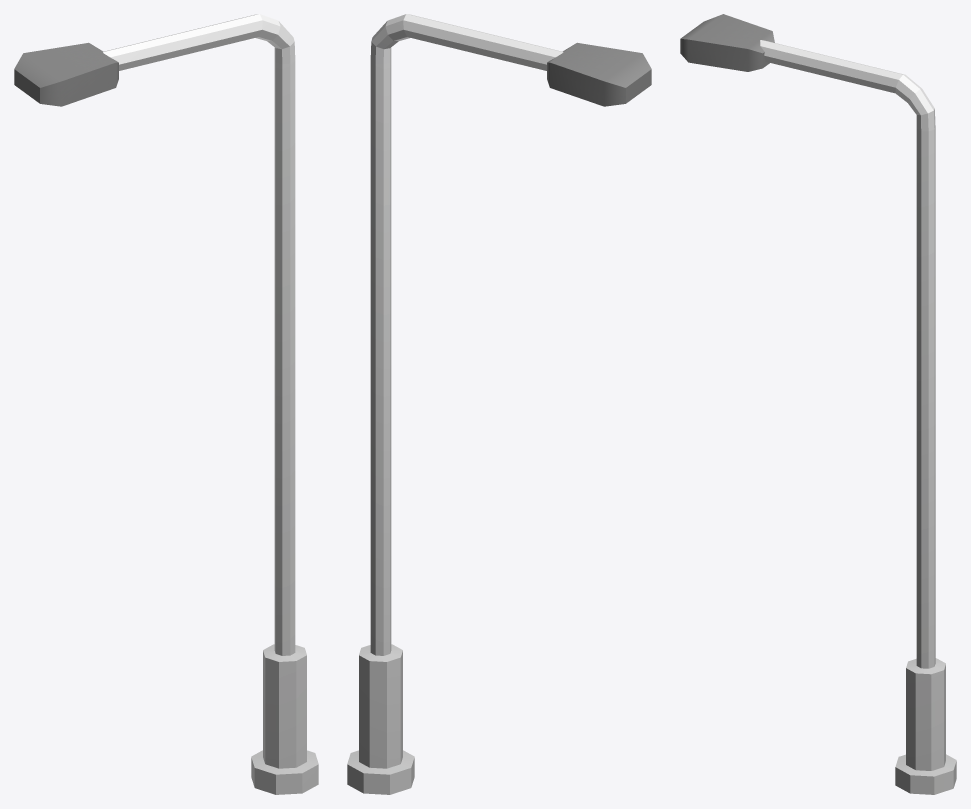
Rendered from lamp.fbx.
3 views of the same model, side by side, from view 1: azimuth 30°, elevation 25°; view 2: azimuth 150°, elevation 25°; view 3: azimuth 330°, elevation 25° (orthographic). The views are drawn at different scales.
Visible parts, largest first — view 1: lamp; view 2: lamp; view 3: lamp.
Boxes of the visible parts, <box> form: lamp: <box>14,14,318,794</box>; lamp: <box>347,14,651,794</box>; lamp: <box>680,14,956,794</box>.
Bounding box in the file's own units: 119 × 305 × 27.5.
Materials: 2 (2 with a texture image).
